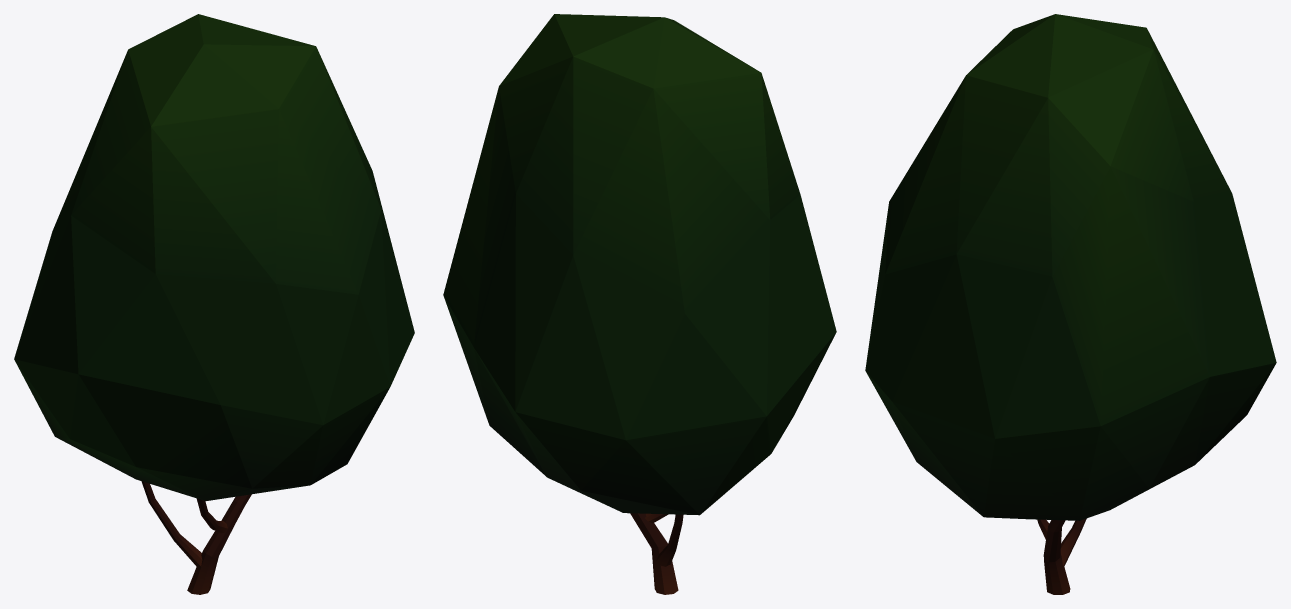
The model's file is Bush 2.fbx.
The picture shows the model from 3 angles, left to right: view 1: azimuth 30°, elevation 25°; view 2: azimuth 150°, elevation 25°; view 3: azimuth 270°, elevation 25°; orthographic projection. The views are drawn at different scales.
Parts seen in each view (by area): view 1: Bush 2; view 2: Bush 2; view 3: Bush 2.
Part boxes in pixels (x1,y1,x2,y2): Bush 2: [14, 14, 414, 594]; Bush 2: [443, 14, 836, 594]; Bush 2: [865, 14, 1276, 594].
Bounding box in the file's own units: 117 × 182 × 117.
